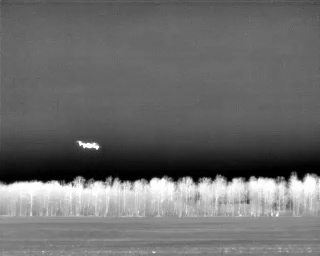DRONE: (73, 136, 104, 155)
